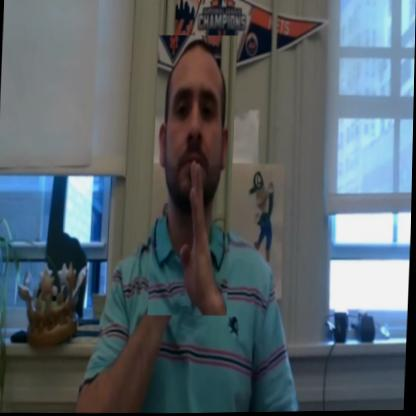Talk: (148, 35, 237, 317)
